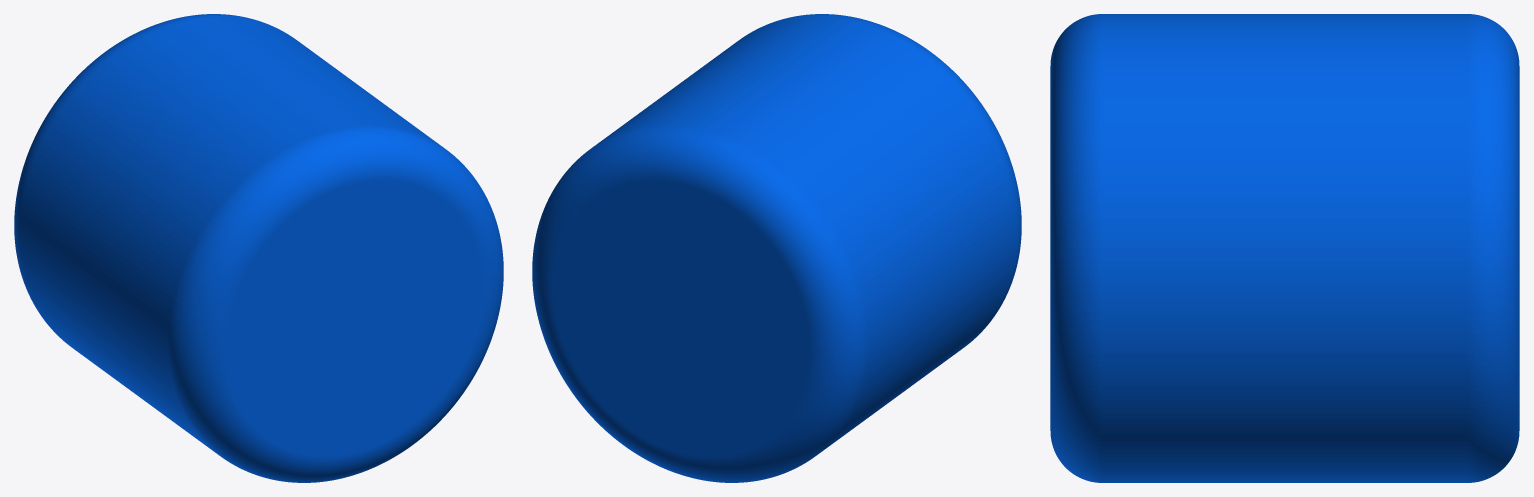
Rendered from round_cylinder_sm.blend.glb.
3 views of the same model, side by side, from view 1: azimuth 30°, elevation 25°; view 2: azimuth 150°, elevation 25°; view 3: azimuth 270°, elevation 25° (orthographic). The views are drawn at different scales.
Visible parts, largest first — view 1: Cylinder; view 2: Cylinder; view 3: Cylinder.
Part boxes in pixels (left/top/right/bottom): Cylinder: left=14, top=14, right=503, bottom=482; Cylinder: left=532, top=14, right=1021, bottom=482; Cylinder: left=1050, top=14, right=1519, bottom=482.
Bounding box in the file's own units: 2 × 2 × 2.
